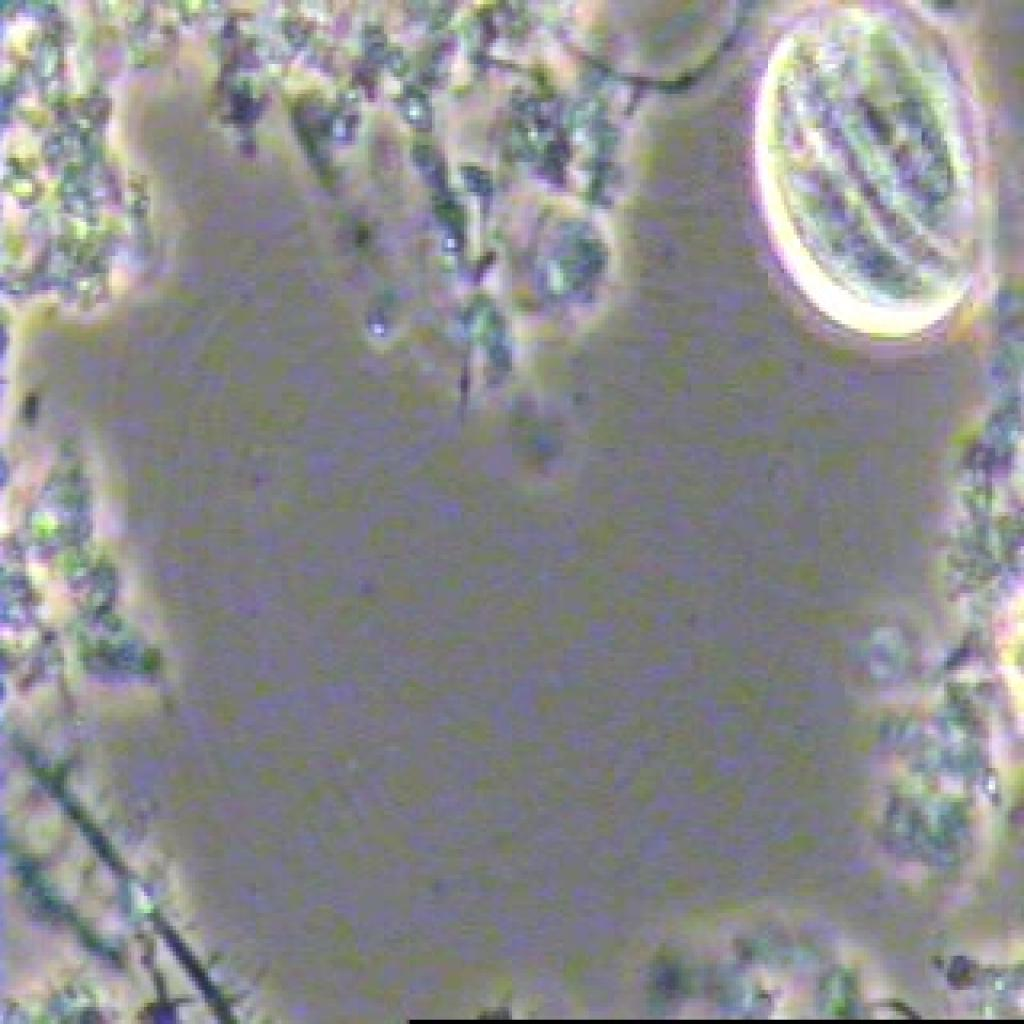Aspidisca: (723, 0, 1002, 363)
